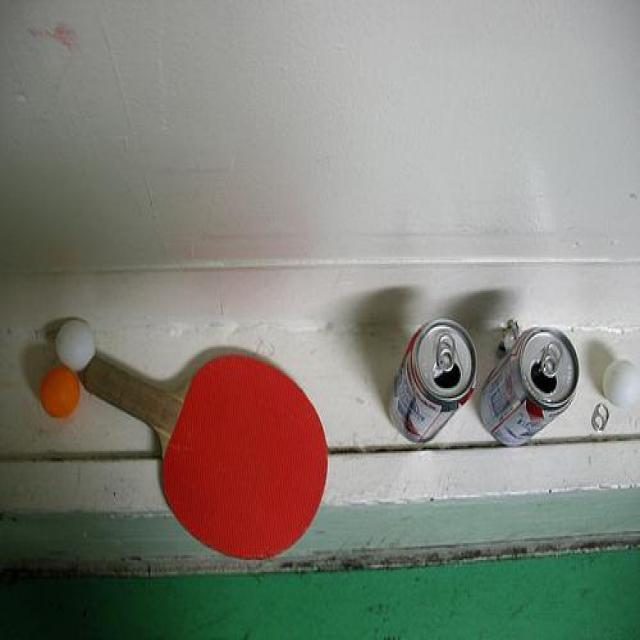ping-pong-ball: (52, 318, 97, 375), (39, 368, 79, 416)
